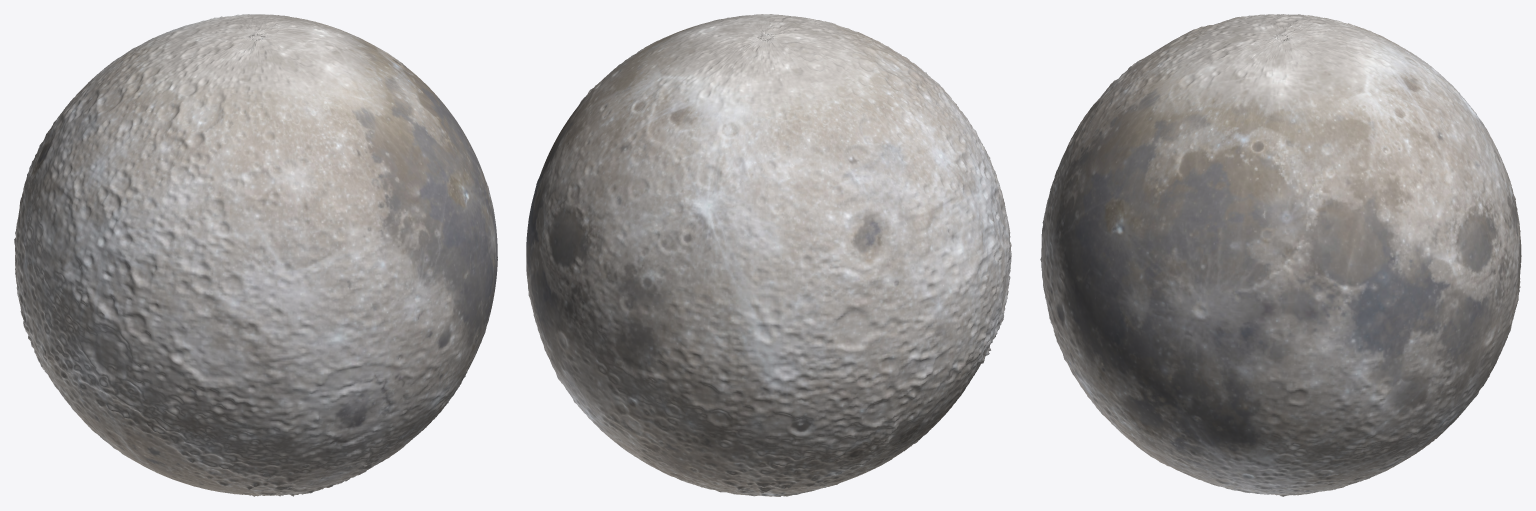
File: moon4.glb
The picture shows the model from 3 angles, left to right: view 1: azimuth 30°, elevation 25°; view 2: azimuth 150°, elevation 25°; view 3: azimuth 270°, elevation 25°; orthographic projection.
Parts seen in each view (by area): view 1: Sphere; view 2: Sphere; view 3: Sphere.
Boxes of the visible parts, left/top/right/bottom form: Sphere: left=14, top=14, right=497, bottom=496; Sphere: left=526, top=14, right=1011, bottom=496; Sphere: left=1040, top=14, right=1521, bottom=496.
Bounding box in the file's own units: 1.92 × 1.93 × 1.92.
Materials: 1 (1 with a texture image).
